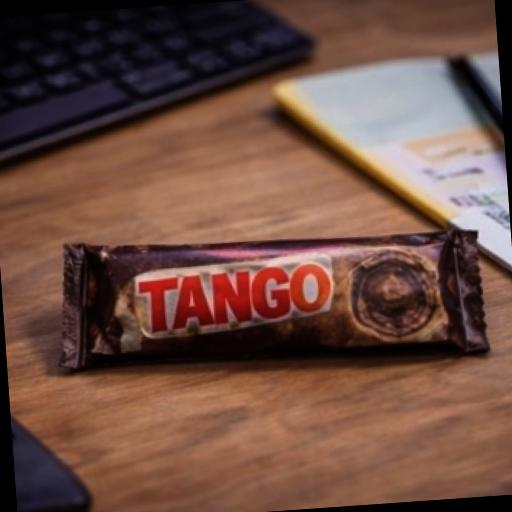tango: (33, 146, 512, 459)
